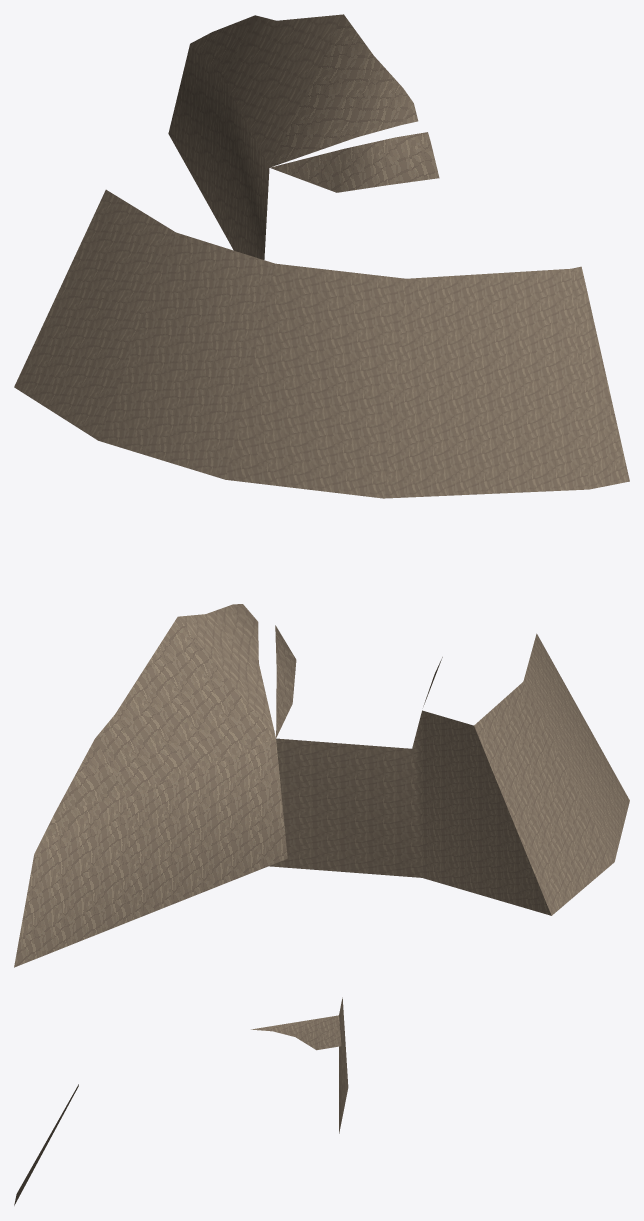
File: kd_stage_1363c5_6_8_bounded.glb
3 views of the same model, one above another, from view 1: azimuth 30°, elevation 25°; view 2: azimuth 150°, elevation 25°; view 3: azimuth 270°, elevation 25° (orthographic). The views are drawn at different scales.
Visible parts, largest first — view 1: kd_stage_1363c5_6_8_bounded; view 2: kd_stage_1363c5_6_8_bounded; view 3: kd_stage_1363c5_6_8_bounded.
Part boxes in pixels (left/top/right/bottom): kd_stage_1363c5_6_8_bounded: left=14, top=14, right=629, bottom=498; kd_stage_1363c5_6_8_bounded: left=14, top=604, right=629, bottom=967; kd_stage_1363c5_6_8_bounded: left=14, top=997, right=348, bottom=1205.
Size of the model in its own units: 54.92 by 37.01 by 120.
1 material, 1 textured.
